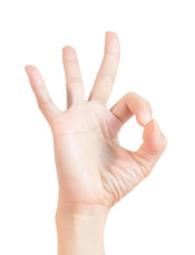left: (20, 29, 170, 211)
